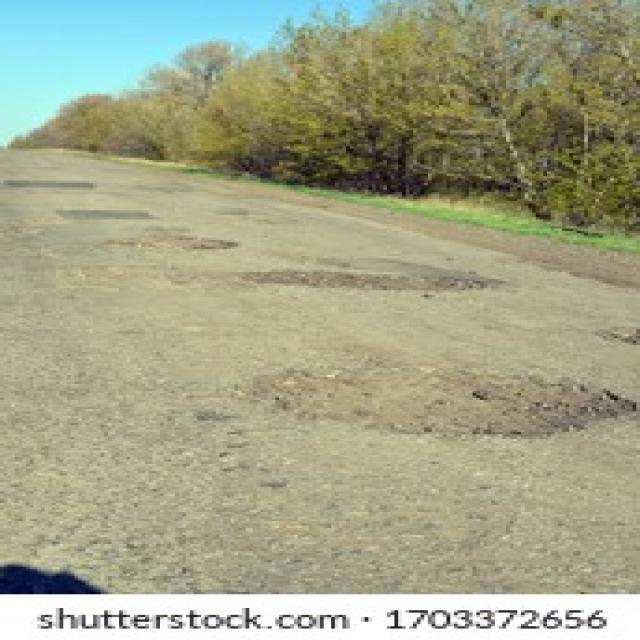Pothole: (246, 361, 636, 441), (231, 268, 495, 298), (104, 231, 242, 254), (595, 320, 640, 348)
